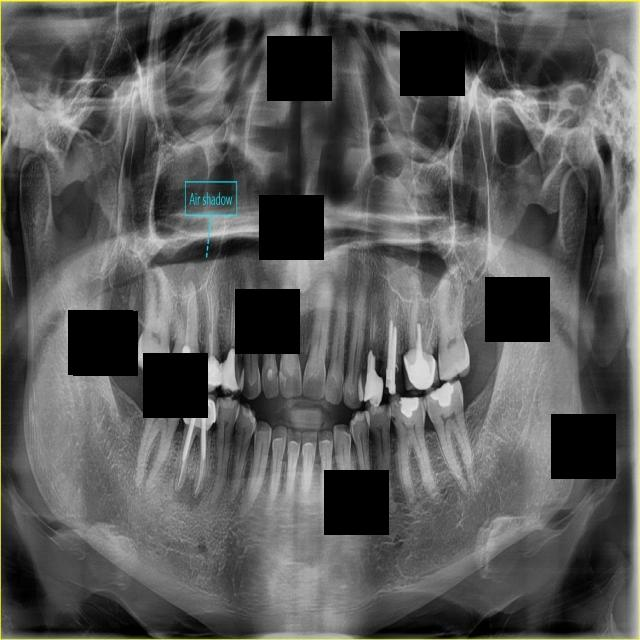71: (399, 323, 433, 387), (180, 403, 200, 463), (388, 325, 397, 395), (385, 317, 393, 387), (200, 401, 208, 460)
74: (195, 455, 206, 495), (425, 313, 437, 349), (230, 286, 237, 347), (210, 293, 214, 355), (185, 297, 190, 344), (205, 282, 211, 321), (177, 462, 185, 487), (370, 305, 374, 340), (413, 308, 416, 346), (395, 297, 400, 317), (373, 314, 377, 338)
NucleOSS Implant: (364, 350, 386, 407), (429, 379, 461, 411), (151, 380, 180, 401), (398, 397, 419, 420)
Sterngold Implant: (215, 399, 223, 417), (391, 412, 399, 426), (456, 387, 464, 400), (275, 370, 279, 379)
Straumann Implant: (174, 342, 207, 386), (197, 355, 224, 393), (218, 347, 239, 392), (278, 369, 288, 389), (266, 367, 274, 381)
Zimmer Implant: (401, 344, 440, 393), (181, 391, 220, 433)
